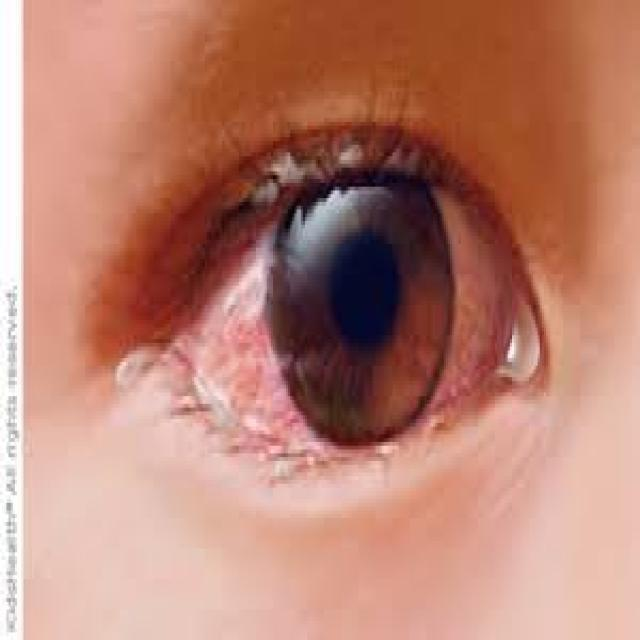Conjunctivitis: (130, 198, 532, 432)
